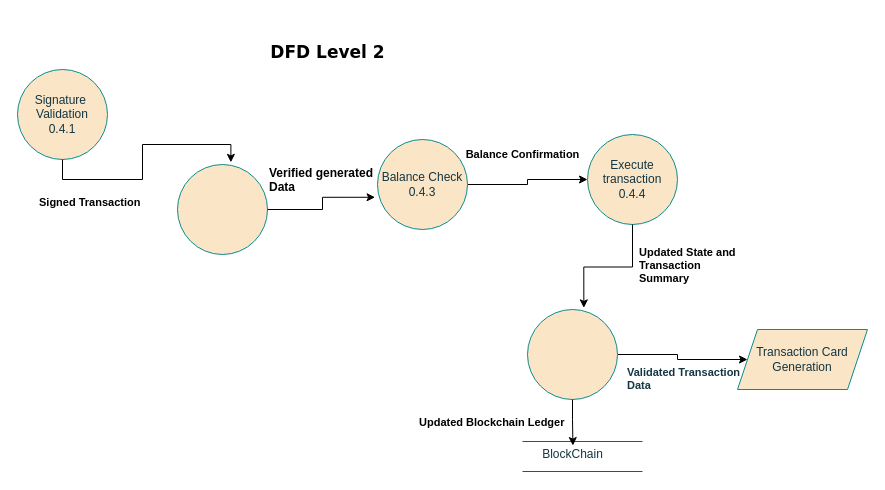
The diagram is 885 pixels wide and 490 high, and some of its shapes have lost their labels. The centre of each missing label's shape, as x and y in pixels:
"Nonce and Balance verification 0.4.2" goes at pixel 222 209.
"Update States 0.4.5" goes at pixel 572 354.
